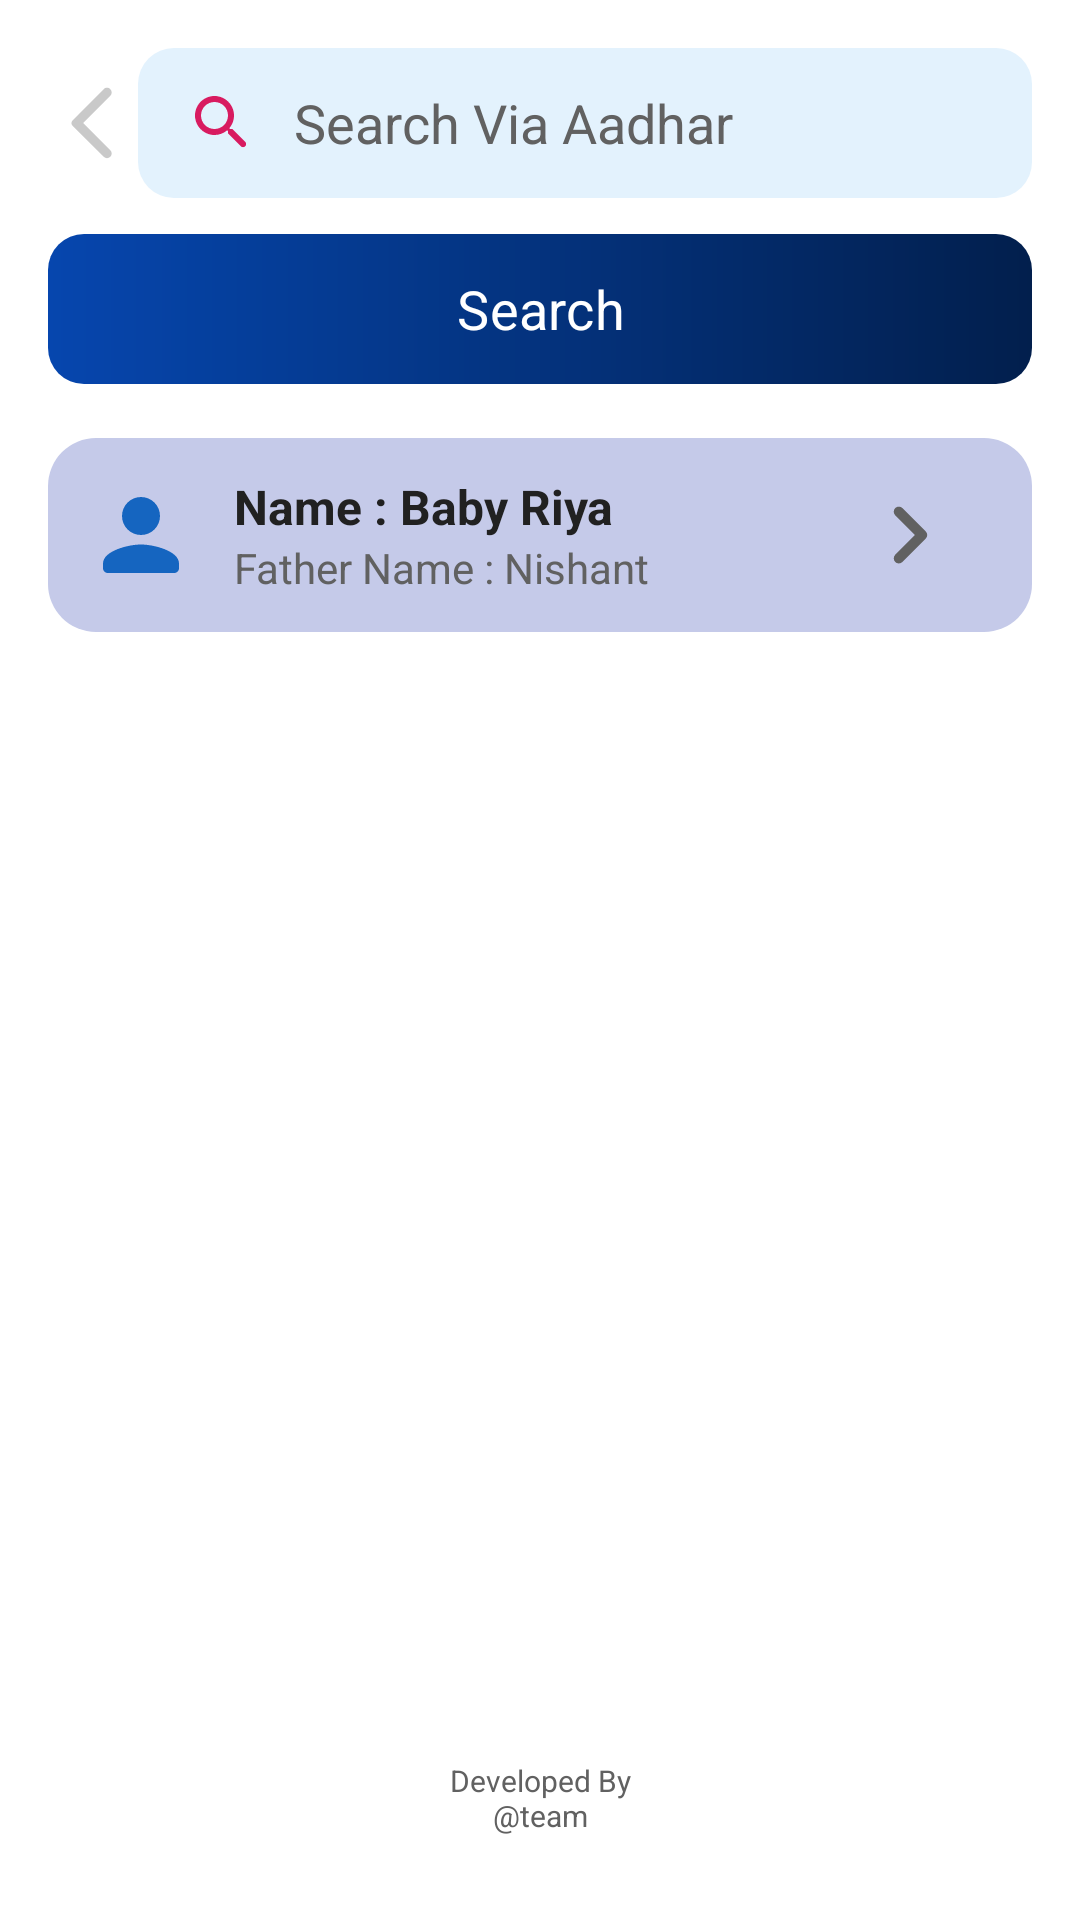

Named icons in this screenshot (1080*1920) and their bounding boxes, region(x1, y1, x2, y2):
back: region(71, 88, 112, 158)
person: region(103, 497, 179, 573)
right: region(893, 506, 927, 564)
